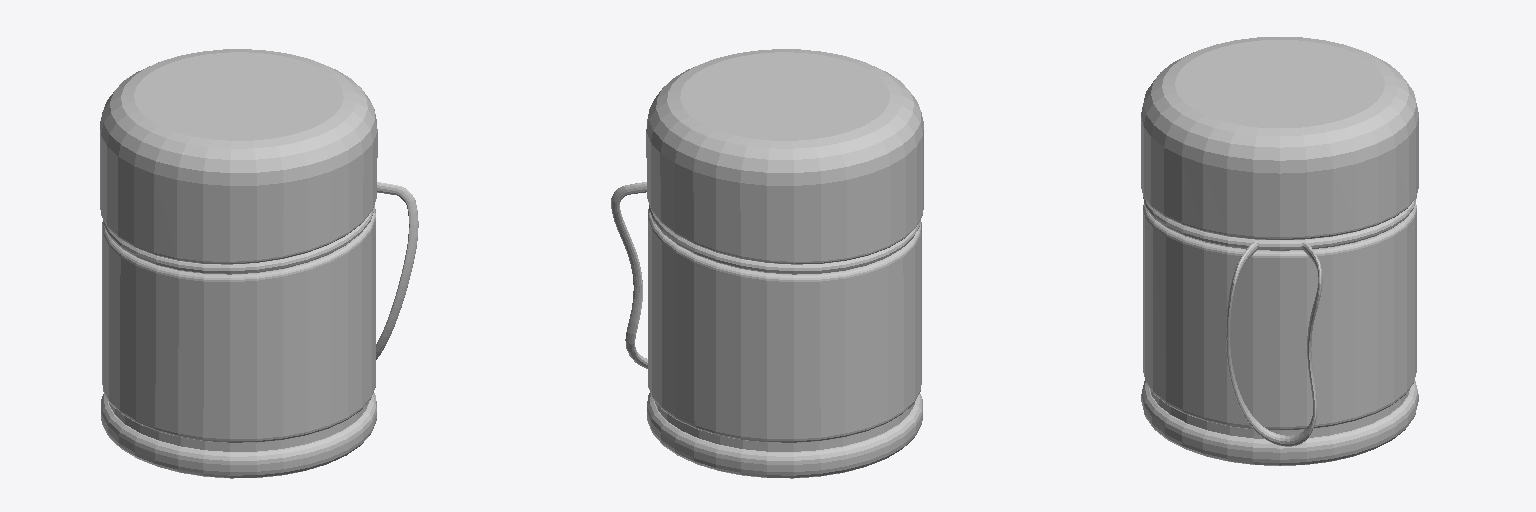
File: SetA_Container_Style_14.obj
3 views of the same model, side by side, from view 1: azimuth 30°, elevation 25°; view 2: azimuth 150°, elevation 25°; view 3: azimuth 270°, elevation 25° (orthographic).
Parts seen in each view (by area): view 1: SetA_Container_Style_14; view 2: SetA_Container_Style_14; view 3: SetA_Container_Style_14.
Boxes of the visible parts, x1,y1,x2,y2 form: SetA_Container_Style_14: [100, 49, 418, 478]; SetA_Container_Style_14: [611, 49, 923, 478]; SetA_Container_Style_14: [1141, 37, 1418, 465].
Size of the model in its own units: 0.2417 by 0.2743 by 0.2115.